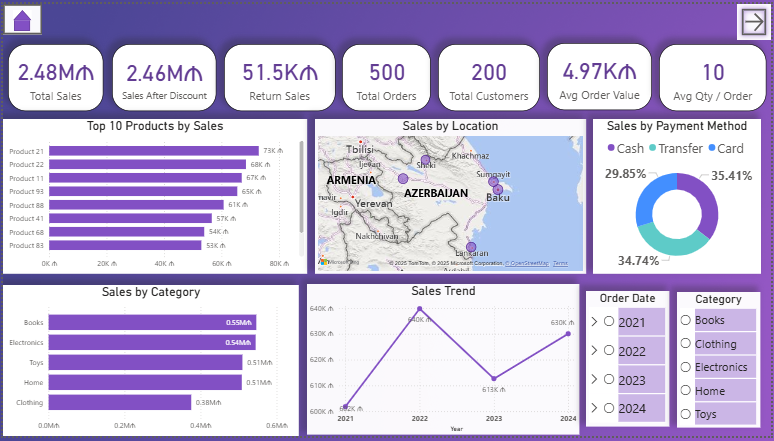

This screenshot's page, from the dashboard's own definition file:
{"tool":"powerbi","page":{"name":"Sales Overview","canvas":[1280,720],"ordinal":1},"visuals":[{"type":"card","fields":{"Values":["order_details.total sales"]},"box":[7.7,66.2,159.2,111.5],"z":0},{"type":"lineChart","title":"Sales Trend ","fields":{"Y":["order_details.Total Sales (Gross)"],"Category":["orders.order_date.Variation.Date Hierarchy.Year","orders.order_date.Variation.Date Hierarchy.Quarter","orders.order_date.Variation.Date Hierarchy.Month","orders.order_date.Variation.Date Hierarchy.Day"]},"box":[507.1,467.1,454.3,251.4],"z":1000},{"type":"card","fields":{"Values":["order_details.Sales After Discount"]},"box":[181.1,66.7,174.4,112.2],"z":2000},{"type":"barChart","title":"Top 10 Products by Sales","fields":{"Category":["products.product_name"],"Y":["order_details.Total Sales (Gross)"]},"box":[0,191.7,506.7,258.3],"z":3000},{"type":"card","fields":{"Values":["returns.Return Value"]},"box":[368.9,66.7,185.6,112.2],"z":4000},{"type":"clusteredBarChart","title":"Sales by Category ","fields":{"Category":["products.category"],"Y":["order_details.Total Sales (Gross)"]},"box":[0,468.3,493.3,251.7],"z":5000},{"type":"card","fields":{"Values":["orders.Total Orders"]},"box":[565,66.7,148.3,111.7],"z":6000},{"type":"map","title":"Sales by Location","fields":{"Size":["order_details.Total Sales (Gross)"],"Category":["customers.city"]},"box":[520,191.7,451.7,258.3],"z":7000},{"type":"card","fields":{"Values":["customers.Total Customers"]},"box":[724.4,66.7,170,112.2],"z":8000},{"type":"donutChart","title":"Sales by Payment Method","fields":{"Category":["orders.payment_method"],"Y":["order_details.Total Sales (Gross)"]},"box":[983.3,191.7,280,258.3],"z":9000},{"type":"listSlicer","title":"Order Date","fields":{"Values":["orders.order_date.Variation.Date Hierarchy.Year","orders.order_date.Variation.Date Hierarchy.Month"]},"box":[971.2,478.8,138.8,226.2],"z":10000},{"type":"listSlicer","title":"Category","fields":{"Values":["products.category"]},"box":[1123.8,480,138.8,226.2],"z":11000},{"type":"card","fields":{"Values":["order_details.AOV"]},"box":[906.7,65,175,111.7],"z":12000},{"type":"card","fields":{"Values":["order_details.Average Quantity per Order"]},"box":[1093.1,66.2,179.2,111.5],"z":13000},{"type":"actionButton","box":[1223.3,0,56.7,60],"z":14000},{"type":"actionButton","box":[0,0,65.4,50.8],"z":15000,"group":"g1"},{"type":"shape","box":[19.1,25.4,26.8,20],"z":16000,"group":"g1"},{"type":"shape","box":[16.9,9.7,31.3,17.4],"z":16001,"group":"g1"},{"type":"group","id":"g1","title":"Group 1","box":[0,0,65.6,50.7],"z":16002}]}

Visuals, with their boxes in screenshot pixels (x1, y1, x2, y2), scaled from the page's 1280x720 canvas onto the 774x441 screenshot:
card - order_details.total sales: l=5, t=41, r=101, b=109
"Sales Trend " lineChart: l=307, t=286, r=581, b=440
card - order_details.Sales After Discount: l=110, t=41, r=215, b=110
"Top 10 Products by Sales" barChart: l=0, t=117, r=306, b=276
card - returns.Return Value: l=223, t=41, r=335, b=110
"Sales by Category " clusteredBarChart: l=0, t=287, r=298, b=440
card - orders.Total Orders: l=342, t=41, r=431, b=109
"Sales by Location" map: l=314, t=117, r=588, b=276
card - customers.Total Customers: l=438, t=41, r=541, b=110
"Sales by Payment Method" donutChart: l=595, t=117, r=764, b=276
"Order Date" listSlicer: l=587, t=293, r=671, b=432
"Category" listSlicer: l=680, t=294, r=763, b=433
card - order_details.AOV: l=548, t=40, r=654, b=108
card - order_details.Average Quantity per Order: l=661, t=41, r=769, b=109
actionButton: l=740, t=0, r=773, b=37
actionButton: l=0, t=0, r=40, b=31
shape: l=12, t=16, r=28, b=28
shape: l=10, t=6, r=29, b=17
"Group 1" group: l=0, t=0, r=40, b=31
